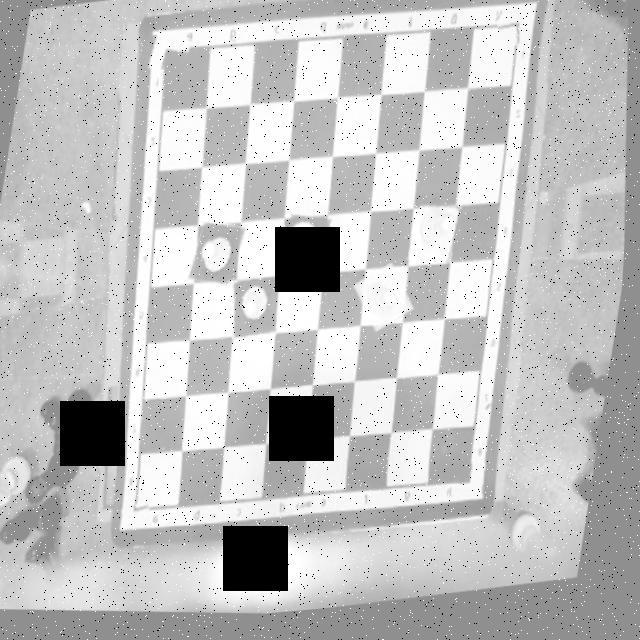chess-table-corners: (137, 28, 196, 80), (448, 464, 496, 508), (492, 12, 535, 59), (124, 498, 158, 528)
